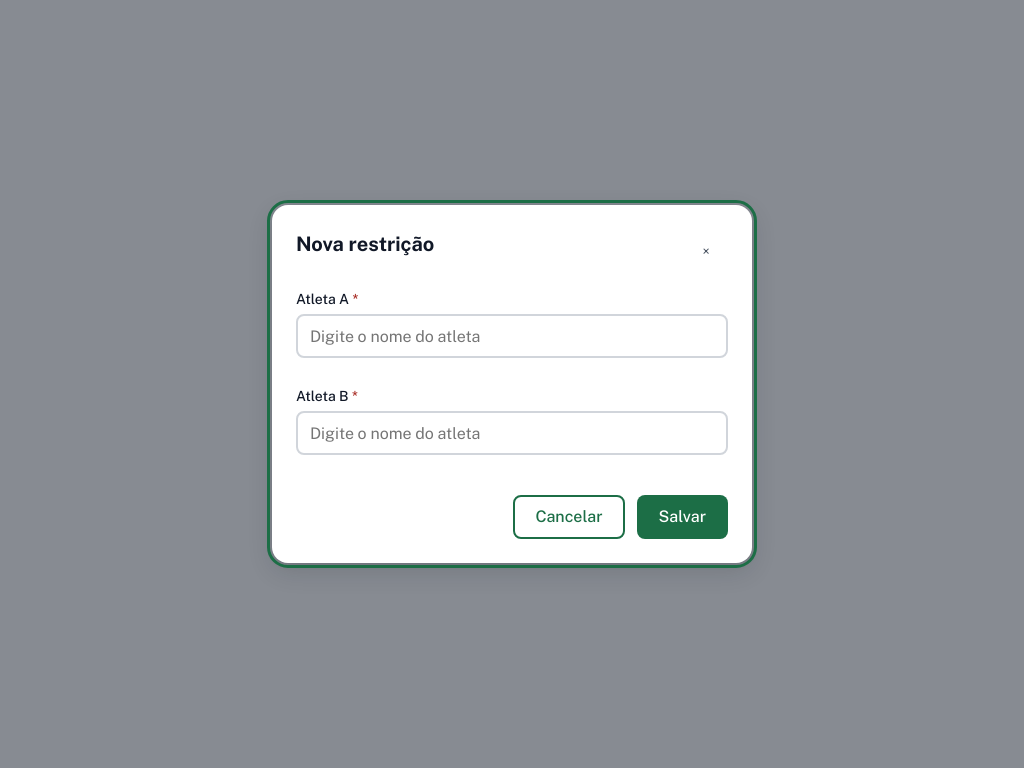
RestricaoFormModal (T10, FE-10) › valida localmente: bloqueia par com o mesmo atleta nos dois campos
Type "João" into the dropdown labelled "Atleta A". click: [512, 336]
box: x1=296 y1=314 x2=728 y2=358
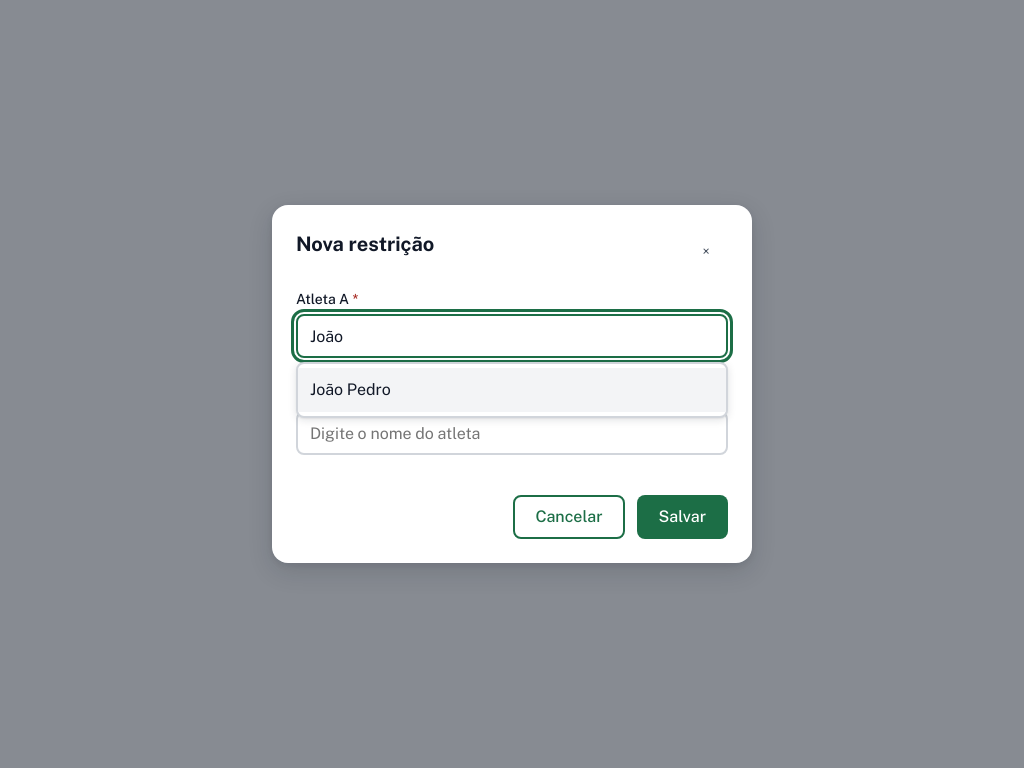
Click the option "João Pedro". click: [350, 390]
box: x1=298 y1=368 x2=726 y2=412
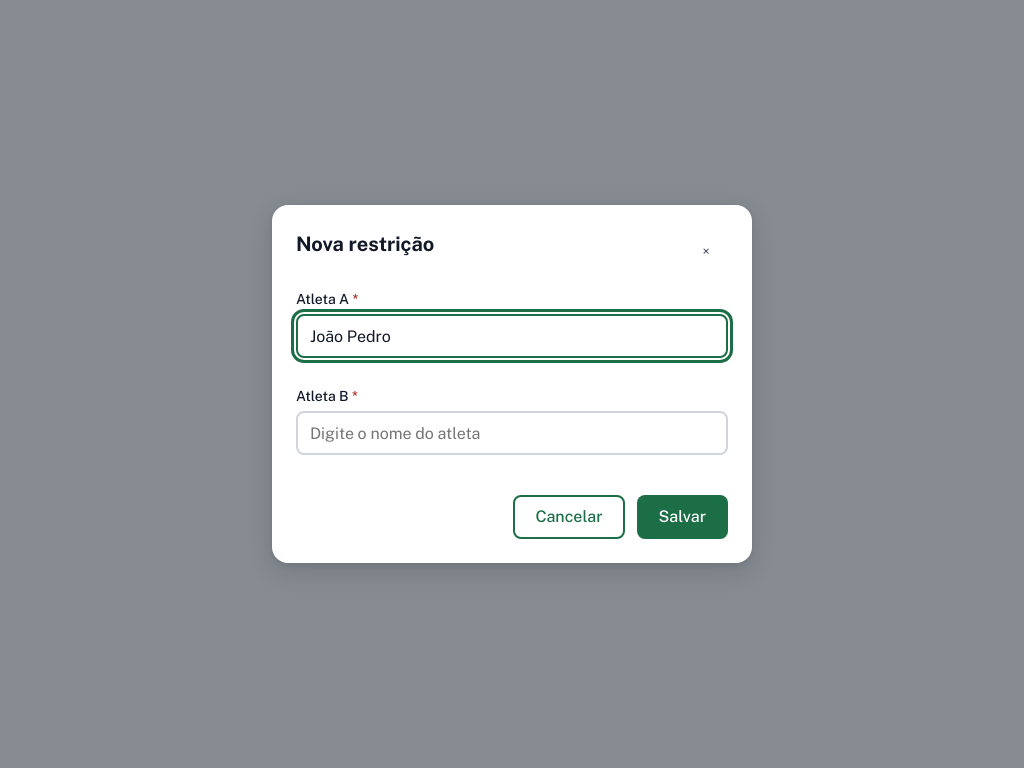
Type "João" into the dropdown labelled "Atleta B". click: [512, 433]
box: x1=296 y1=411 x2=728 y2=455
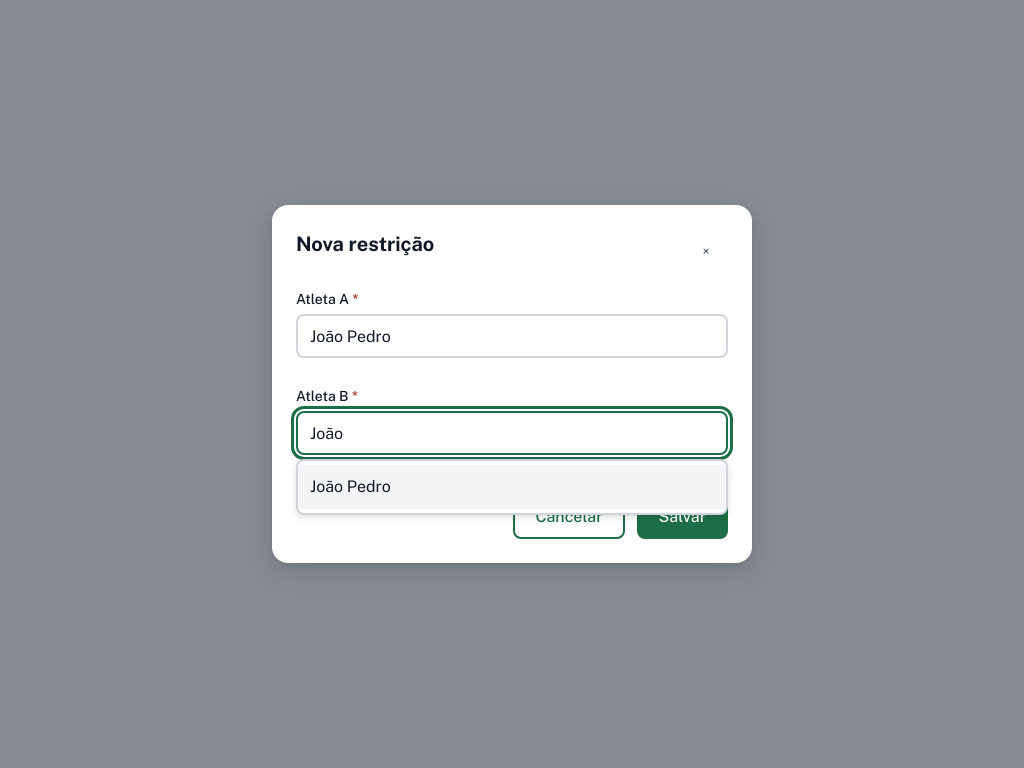
Click the option "João Pedro". click: [350, 486]
box: x1=298 y1=465 x2=726 y2=509
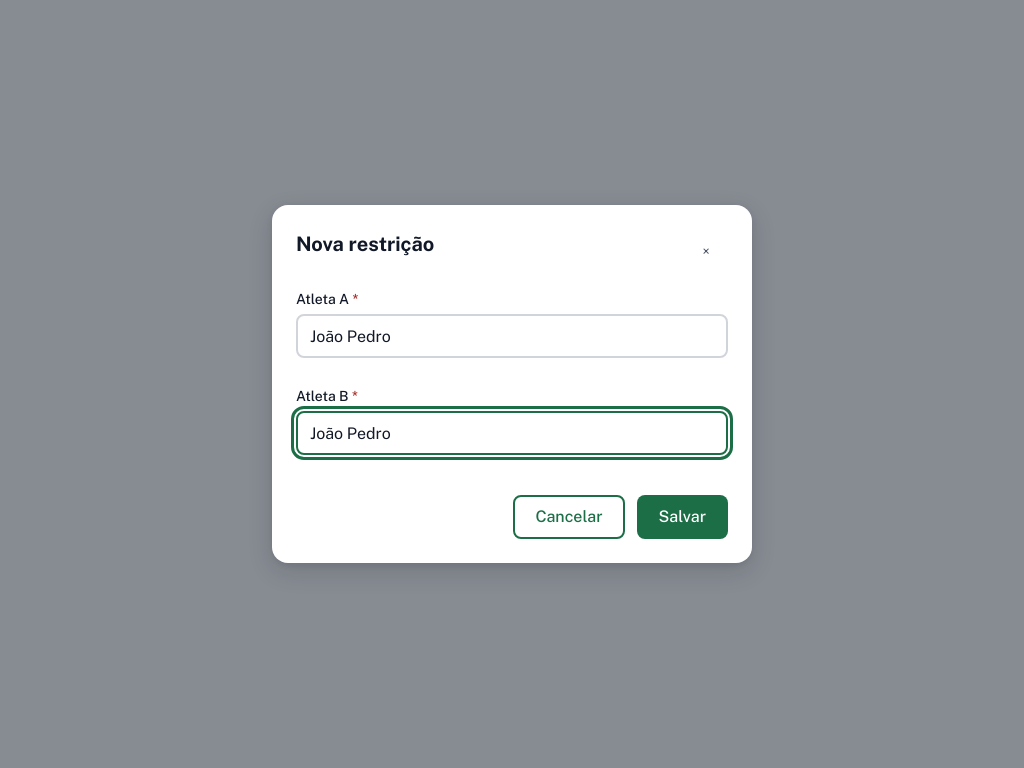
Click the button "Salvar". click: [682, 517]
box: x1=637 y1=495 x2=728 y2=539
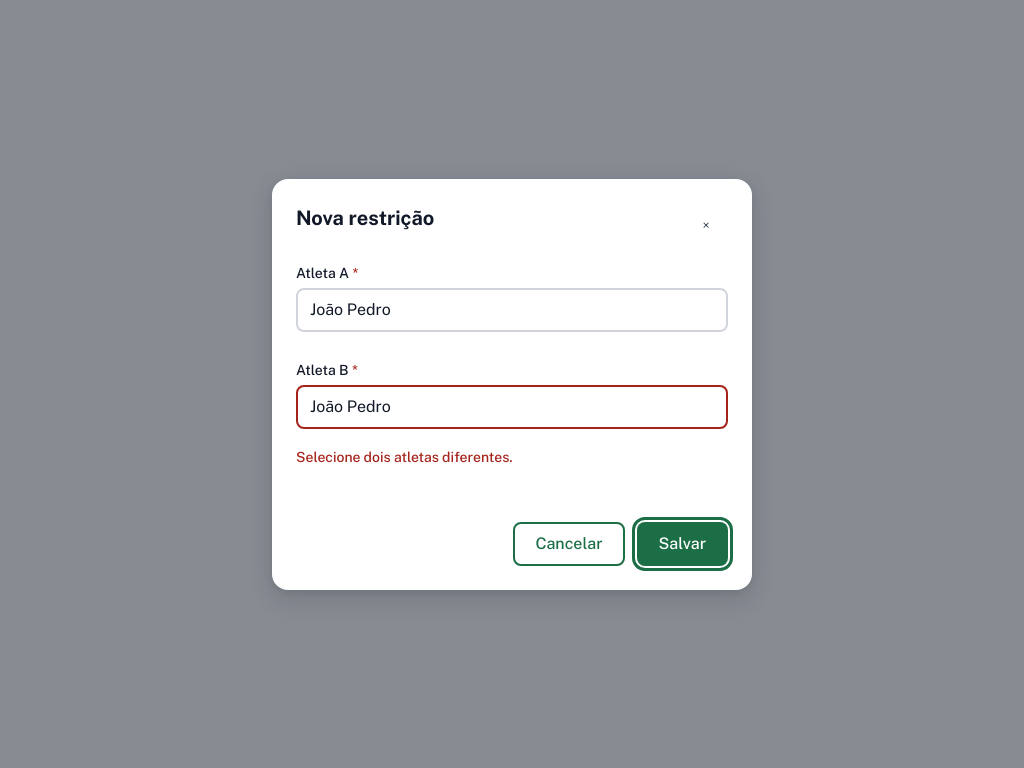
Now the text "Selecione dois atletas diferentes." is shown, box x1=296 y1=448 x2=513 y2=464
